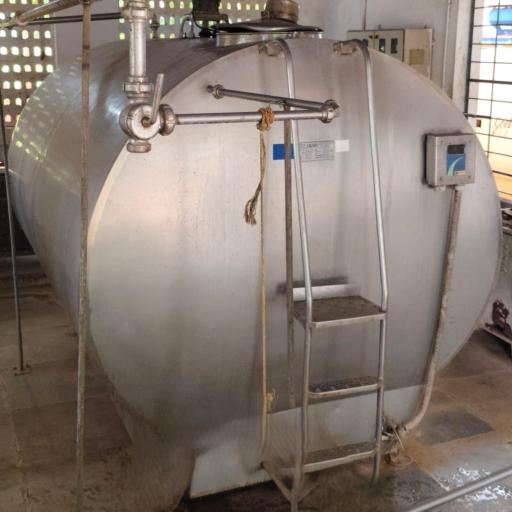silo: (6, 17, 504, 499)
